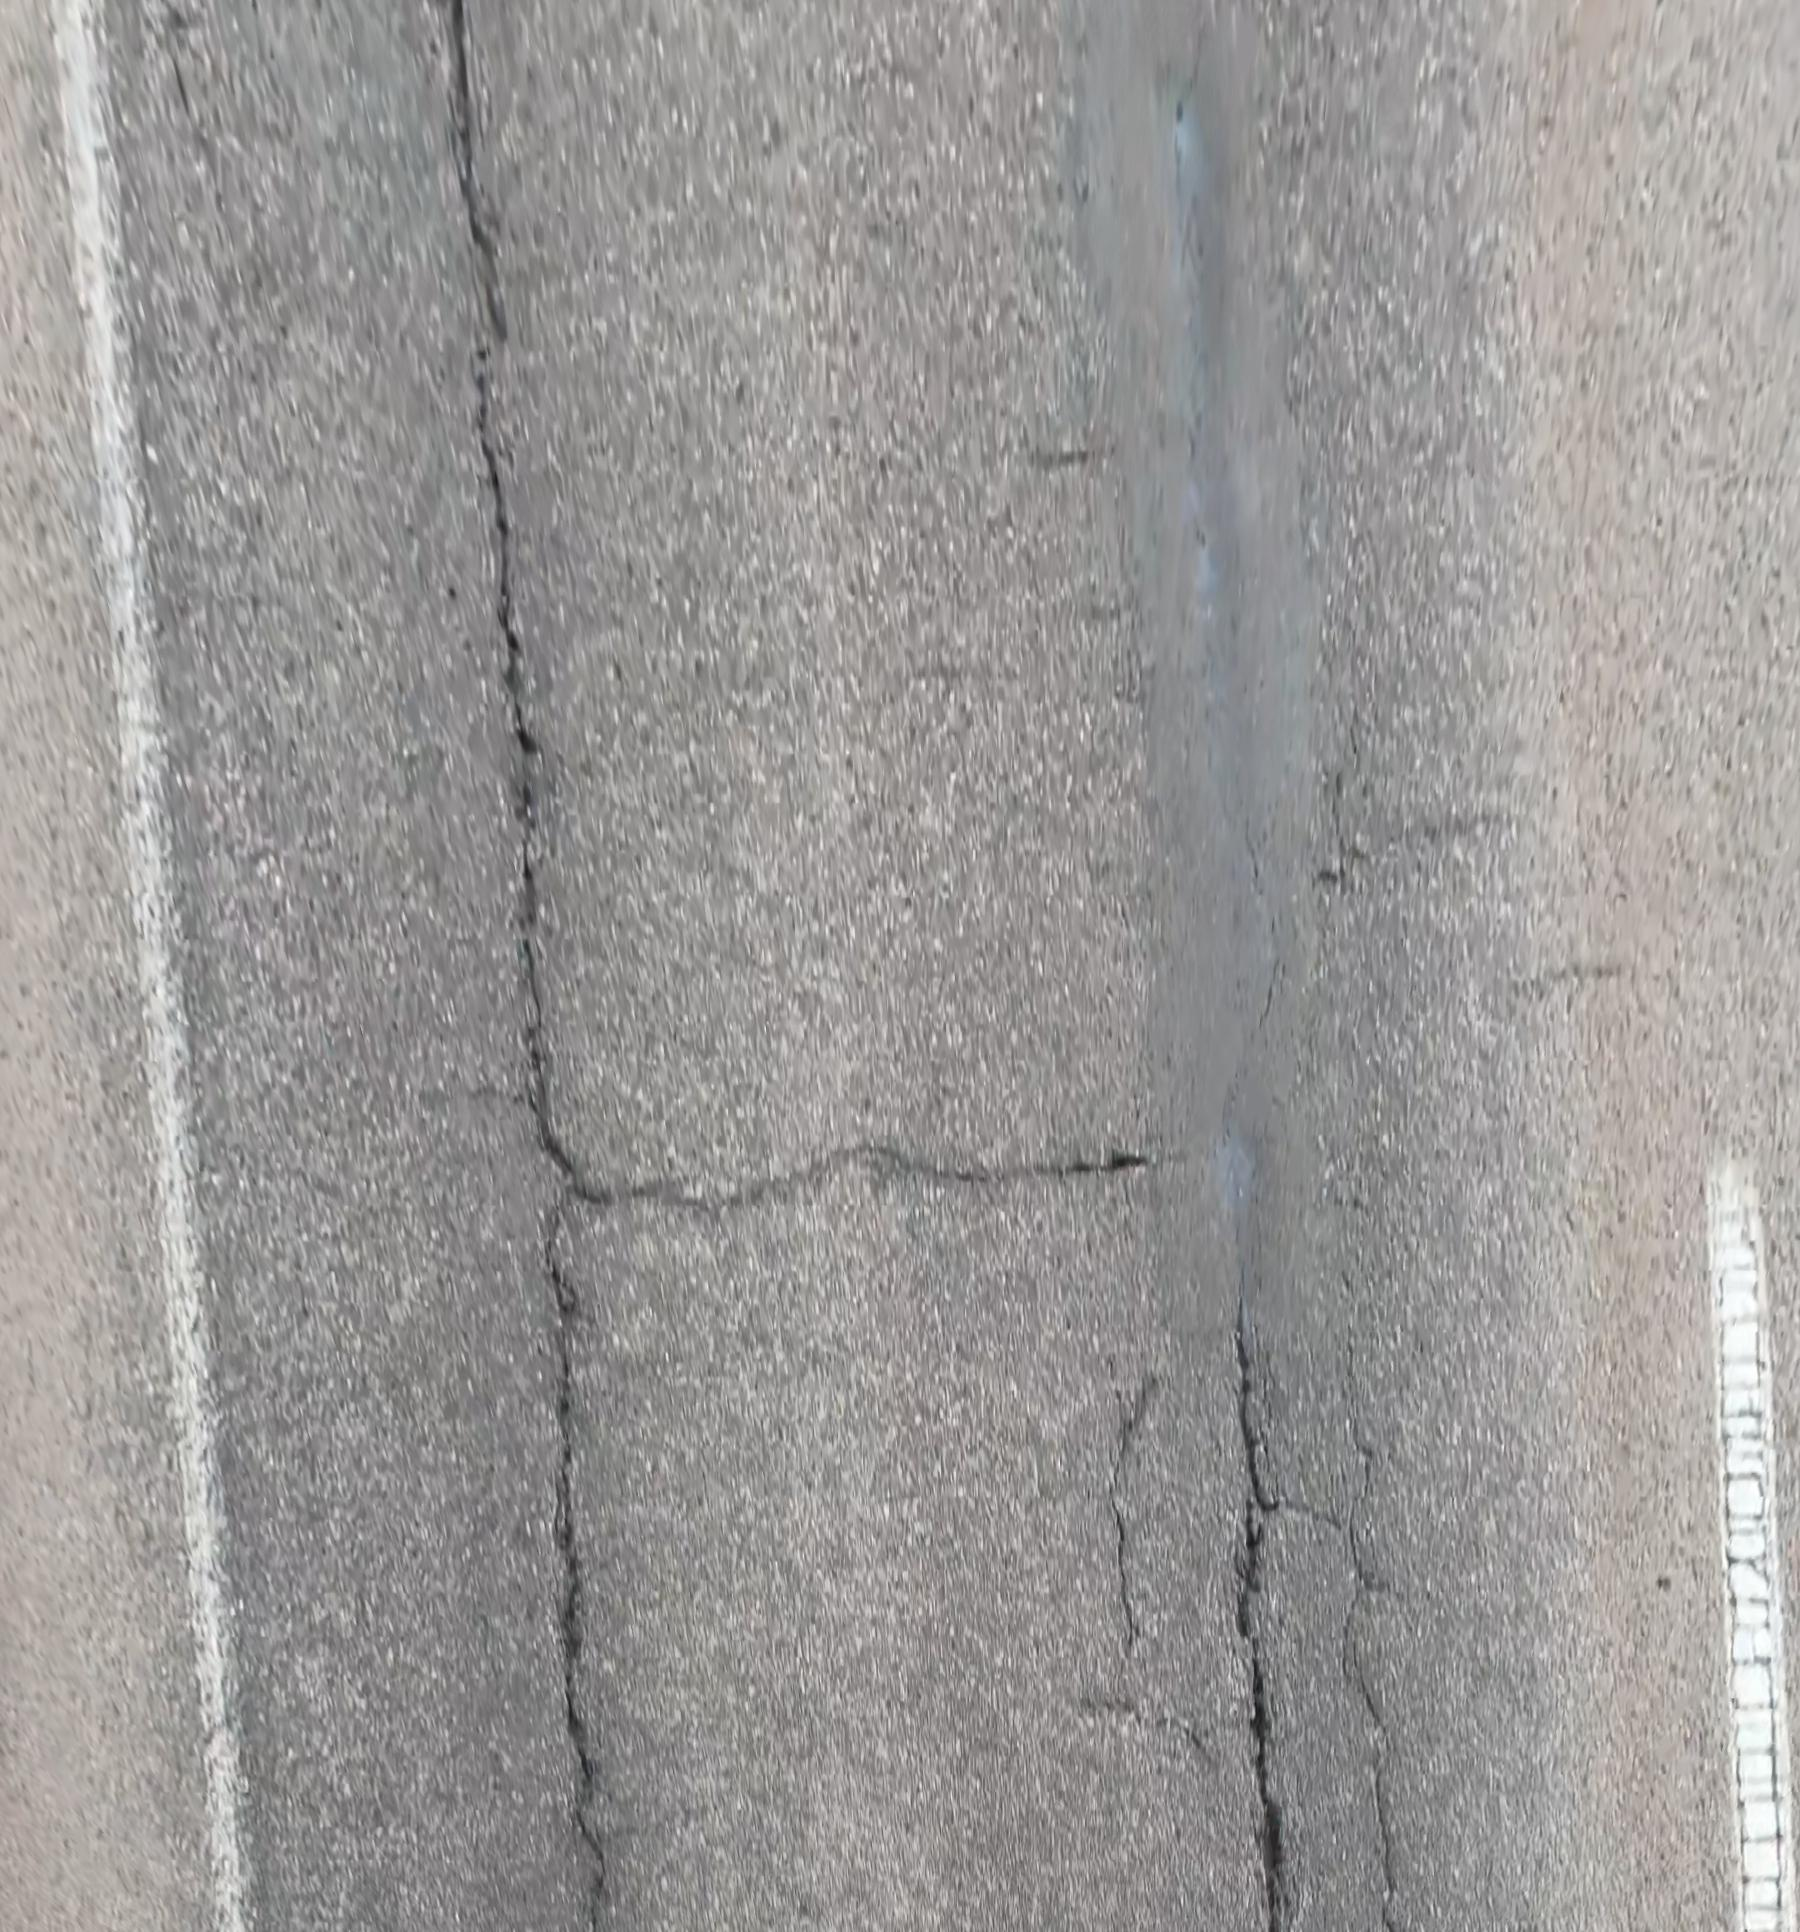pothole_patch_good: (1062, 0, 1321, 1358)
